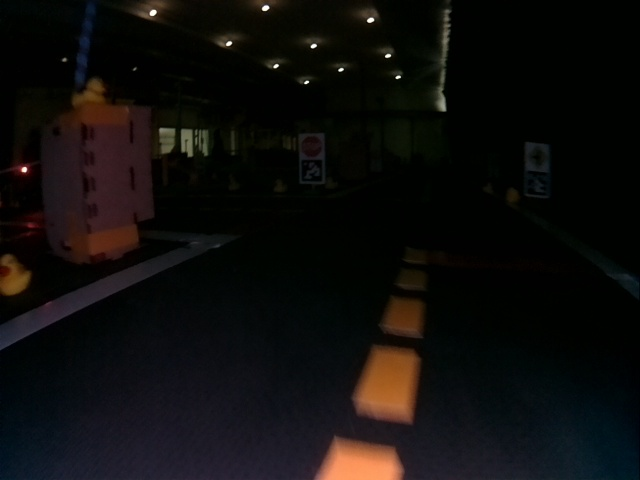Duckie: (2, 254, 29, 294), (72, 78, 103, 105), (507, 188, 517, 203), (274, 179, 284, 189), (483, 182, 492, 192), (326, 179, 335, 187)
Intersection sign: (526, 143, 547, 167)
QR code: (525, 173, 550, 197), (299, 159, 323, 181)
Stop sign: (300, 134, 323, 157)
